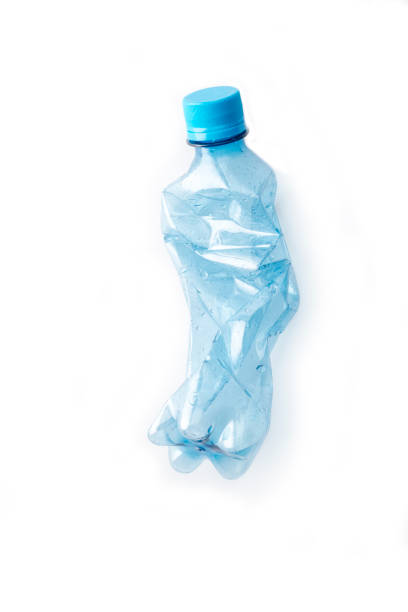plastic_bottle: (147, 88, 301, 479)
